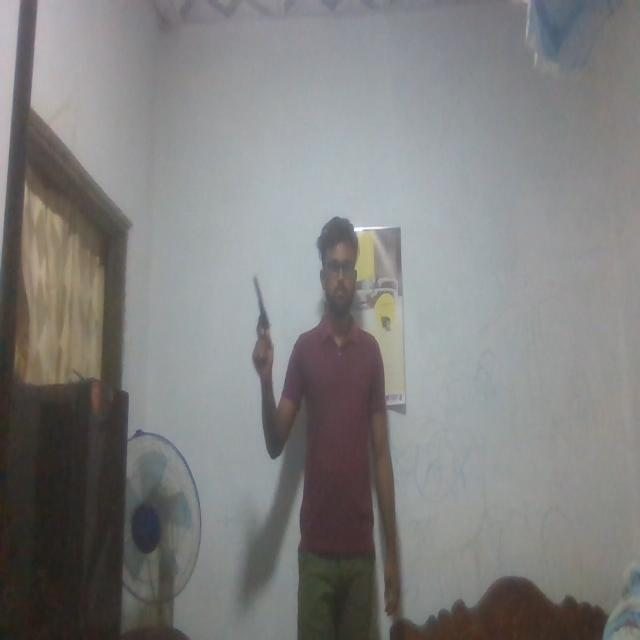Gun_Holder: (246, 276, 280, 362)
Person: (256, 202, 401, 640)
